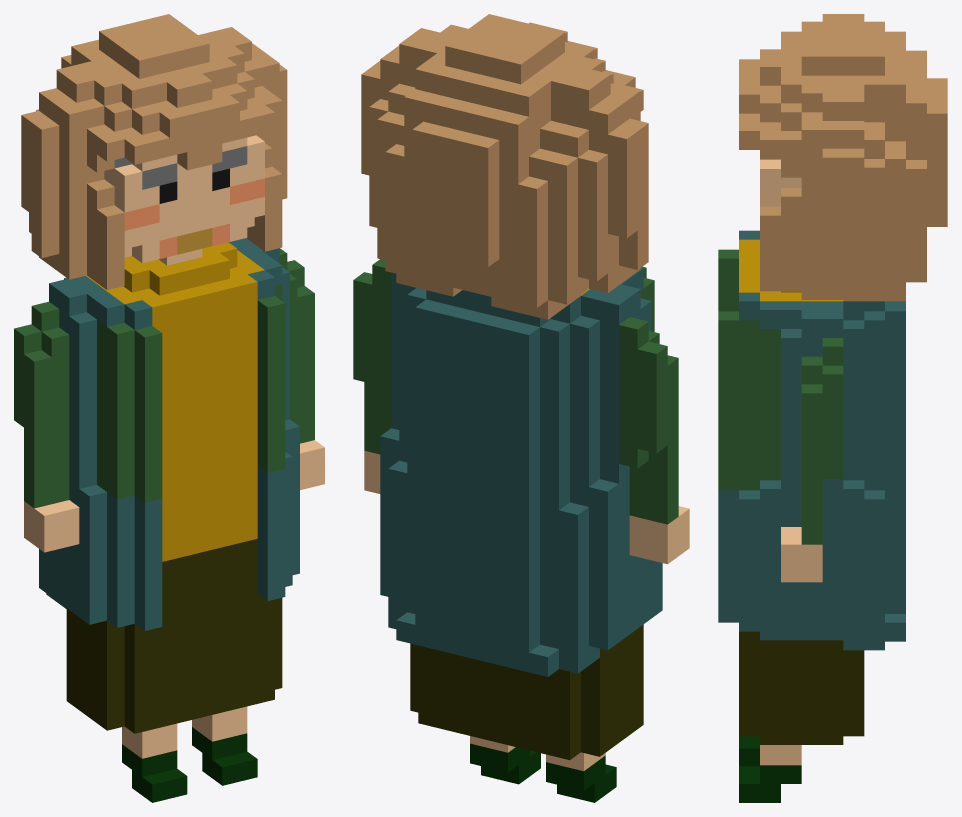
Rendered from Granny-4.obj.
3 views of the same model, side by side, from view 1: azimuth 30°, elevation 25°; view 2: azimuth 150°, elevation 25°; view 3: azimuth 270°, elevation 25° (orthographic). The views are drawn at different scales.
Size of the model in its own units: 1.6 by 3.9 by 1.1.
Materials: 1 (1 with a texture image).
